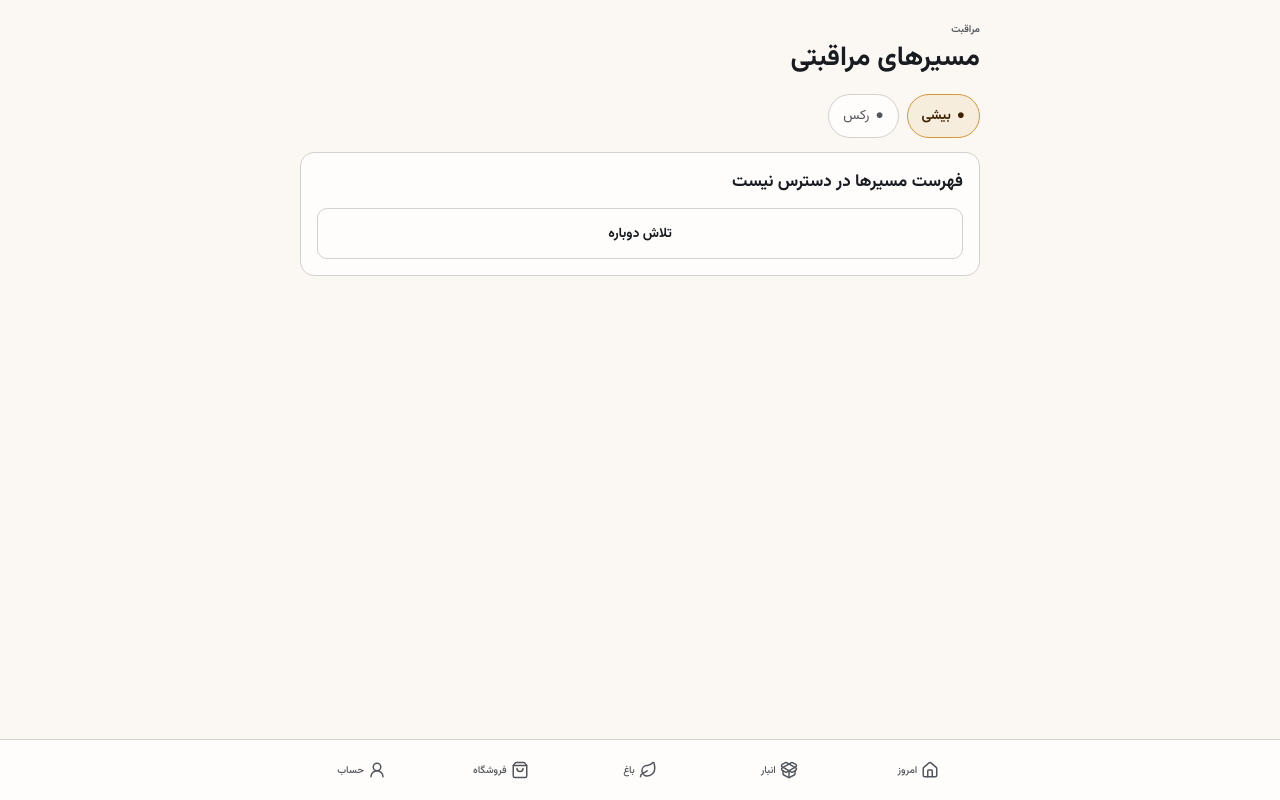
JourneysList › shows a dedicated error state with retry when journey offers fail to load
Expected: the text "فهرست مسیرها در دسترس نیست" is shown, top-left (732, 168), bottom-right (963, 194)
Click the button "تلاش دوباره" at (640, 234), box top-left (317, 208), bottom-right (963, 259)
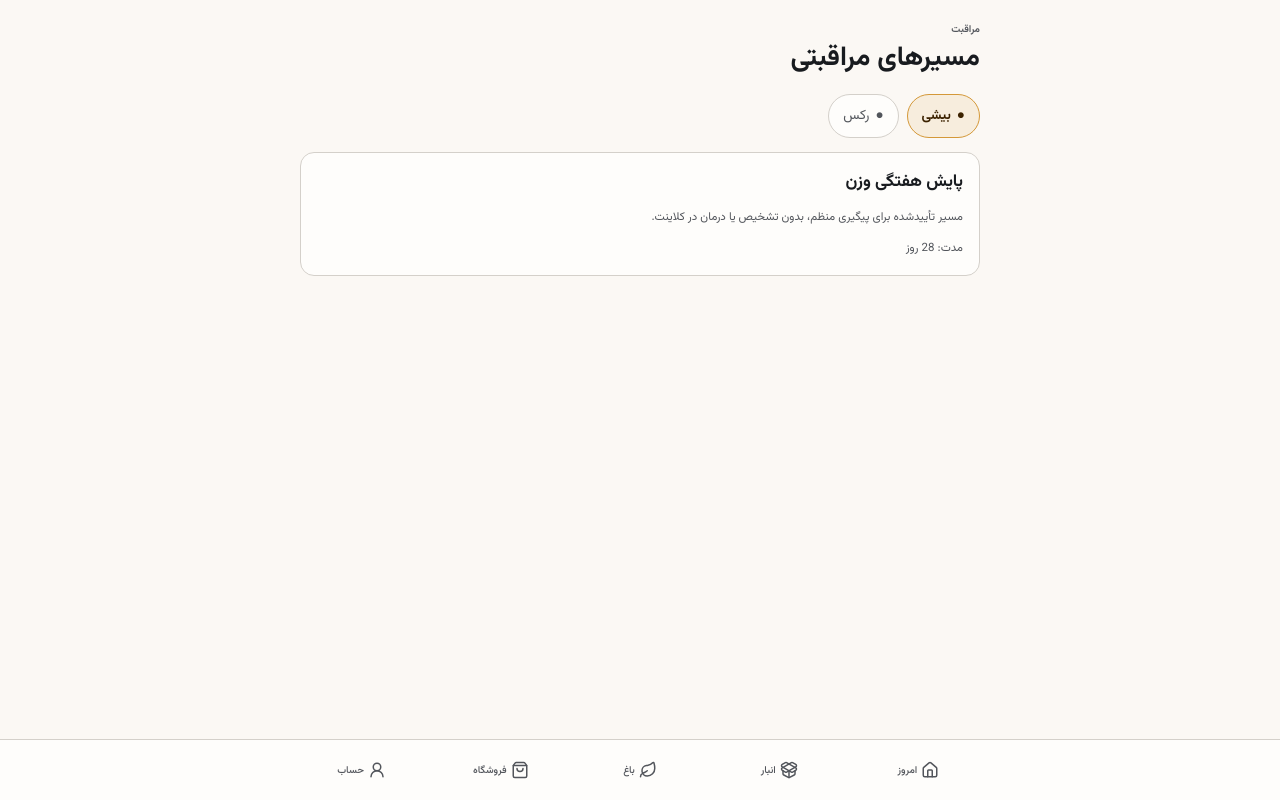
Expected: the text "پایش هفتگی وزن" is shown, top-left (845, 168), bottom-right (963, 194)
